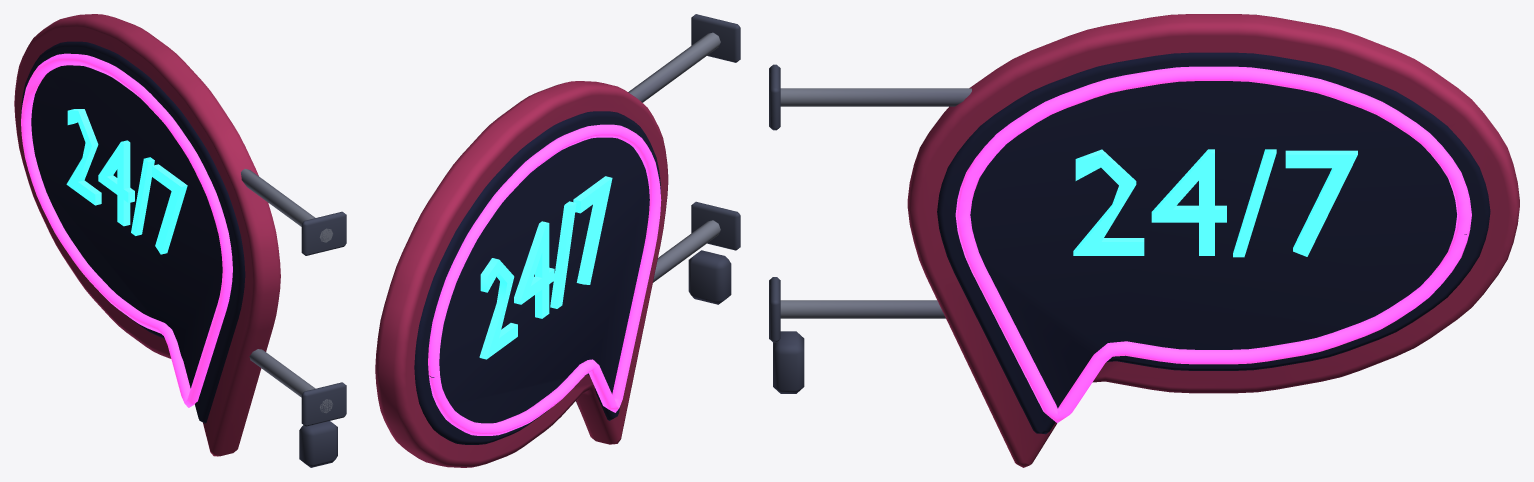
The model's file is enseigne_bulle.glb.
3 views of the same model, side by side, from view 1: azimuth 30°, elevation 25°; view 2: azimuth 150°, elevation 25°; view 3: azimuth 270°, elevation 25° (orthographic). The views are drawn at different scales.
Visible parts, largest first — view 1: enseigne_bulle, tube.001, texte.001; view 2: enseigne_bulle, tube.001, texte.001; view 3: enseigne_bulle, tube, texte.
Boxes of the visible parts, left/top/right/bottom form: enseigne_bulle: left=14, top=14, right=346, bottom=467; tube.001: left=21, top=53, right=232, bottom=407; texte.001: left=66, top=109, right=187, bottom=254; enseigne_bulle: left=375, top=14, right=740, bottom=467; tube.001: left=428, top=124, right=661, bottom=435; texte.001: left=479, top=176, right=612, bottom=359; enseigne_bulle: left=769, top=14, right=1519, bottom=467; tube: left=955, top=66, right=1471, bottom=423; texte: left=1073, top=149, right=1357, bottom=257.
Bounding box in the file's own units: 0.1862 × 1.26 × 1.92.
